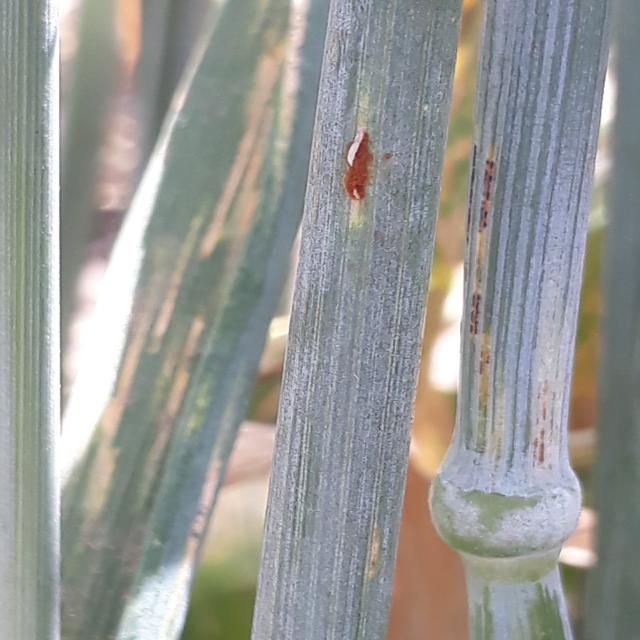black_stem_rust: (254, 1, 622, 640)
